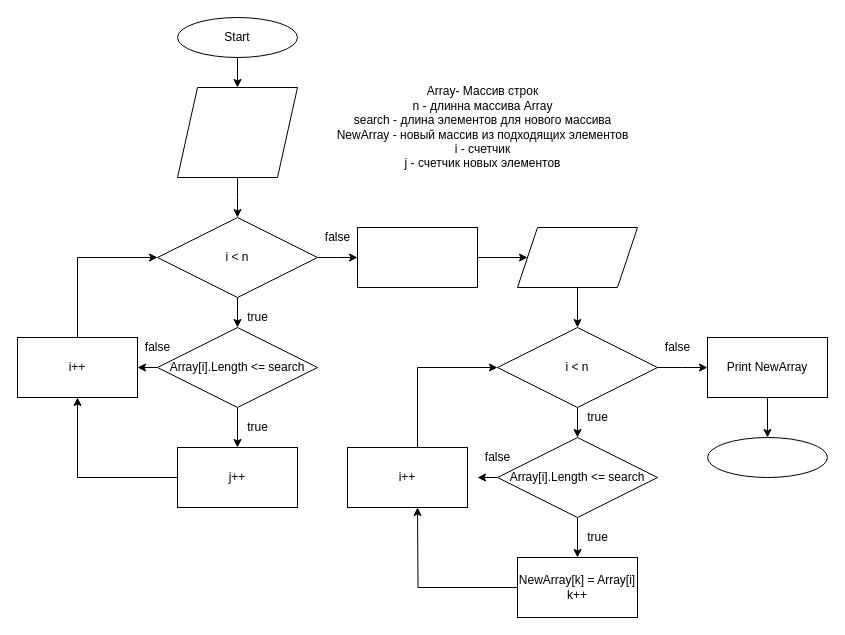
Image size: 845x635. Some labels were removed from this diagram. The shapes that lost their labels are listed below. From the top down, each one's centre as x and y in pixels, then its label:
point (237, 132): Array n search i = 0 k = 0
point (417, 257): i = 0
point (577, 257): NewArray[j]
point (767, 457): End
